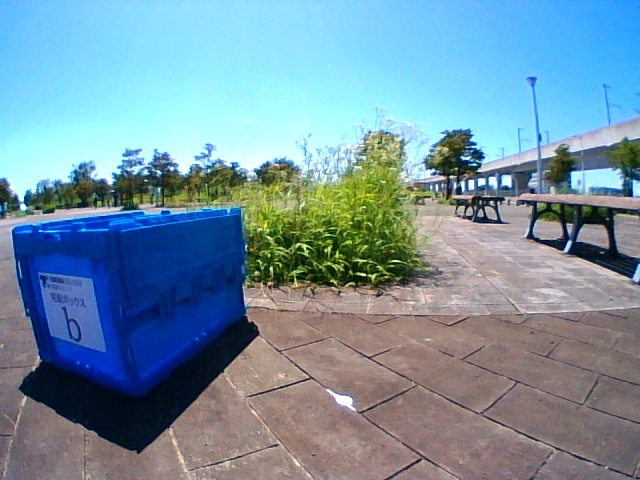blue_box: (42, 224, 195, 355)
tag_b: (62, 286, 91, 342)
